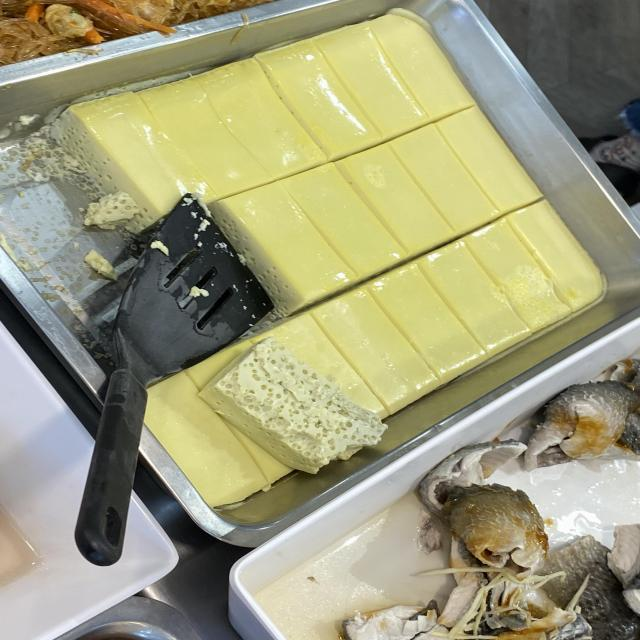steamed egg: (279, 130, 502, 353)
